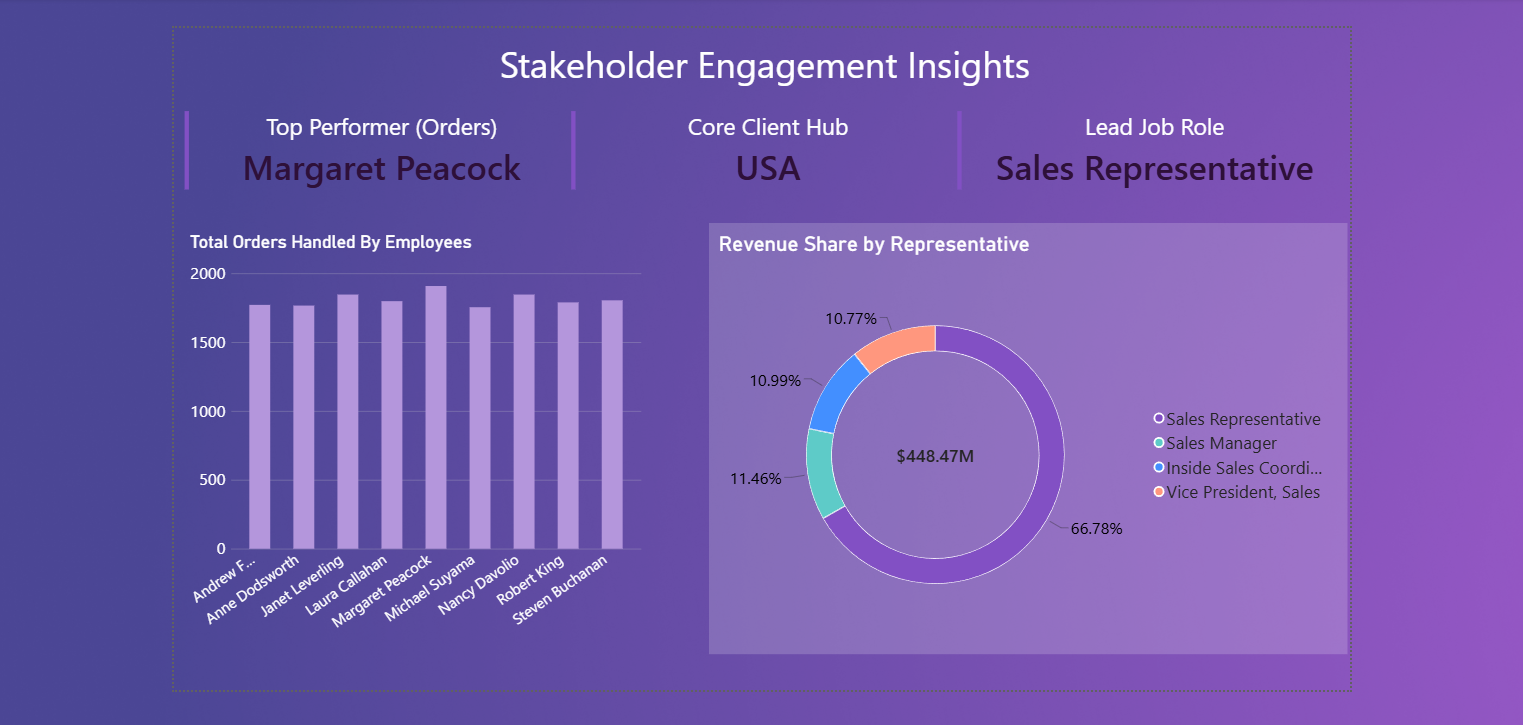

What the dashboard file says about the page in this screenshot:
{"tool":"powerbi","page":{"name":"Stakeholder Engagement Insights","canvas":[1920,1080],"ordinal":2},"visuals":[{"type":"textbox","box":[11.1,0,1908.9,106.7],"z":0},{"type":"cardVisual","fields":{"Data":["_Measures.Top Performer (Orders)","_Measures.Core Client Hub","_Measures.Lead Job Role"]},"box":[6.7,124.4,1909,150],"z":1000},{"type":"columnChart","title":"Total Orders Handled By Employees","fields":{"Category":["Employees.FullName","Orders.OrderDate.Variation.Date Hierarchy.Quarter"],"Y":["_Measures.Total Orders"]},"box":[11.1,317.8,768.9,704.4],"z":2000},{"type":"donutChart","title":"Revenue Share by Representative","fields":{"Category":["Employees.Title"],"Y":["_Measures.Total Revenue"]},"box":[873.3,317.8,1042,704],"z":3000}]}

Visuals, with their boxes on the page's 1920x1080 design canvas (x1, y1, x2, y2). These are canvas units, not pixel positions in the 1523x725 screenshot, which may show the page scaled, cropped or inside an application window:
textbox: <box>11,0,1920,107</box>
cardVisual - _Measures.Top Performer (Orders) x _Measures.Core Client Hub: <box>7,124,1916,274</box>
"Total Orders Handled By Employees" columnChart: <box>11,318,780,1022</box>
"Revenue Share by Representative" donutChart: <box>873,318,1915,1022</box>
